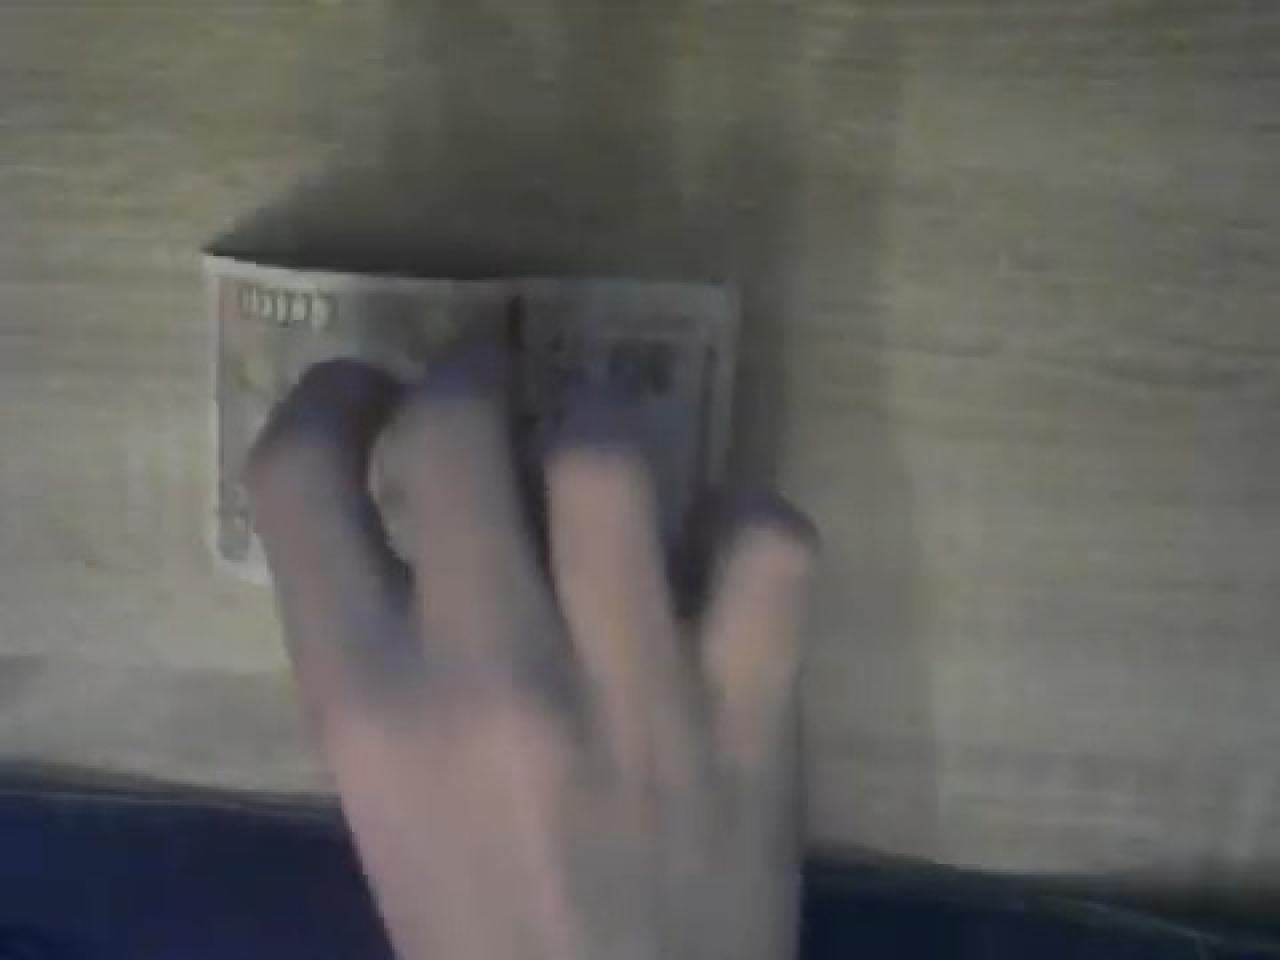10leva: (211, 248, 800, 960), (214, 256, 715, 566)
